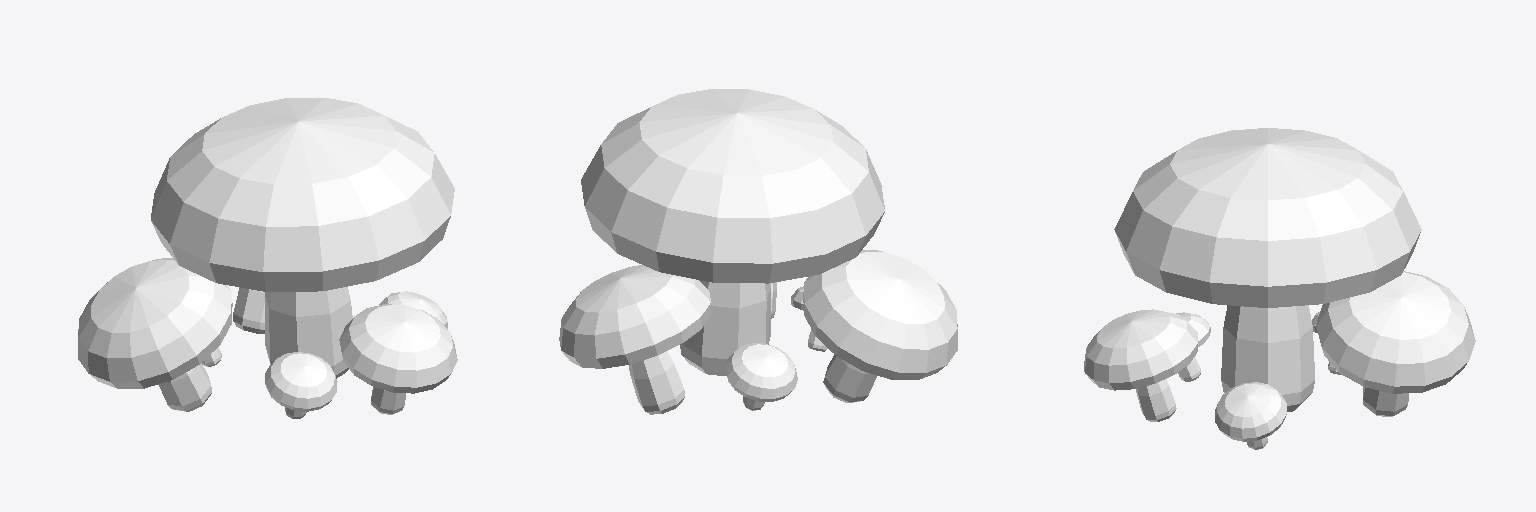
File: Mushroom_01.obj
The picture shows the model from 3 angles: view 1: azimuth 30°, elevation 25°; view 2: azimuth 150°, elevation 25°; view 3: azimuth 270°, elevation 25°; orthographic projection.
Parts seen in each view (by area): view 1: Mushroom_01_Circle.045; view 2: Mushroom_01_Circle.045; view 3: Mushroom_01_Circle.045.
Part boxes in pixels (left/top/right/bottom): Mushroom_01_Circle.045: left=78, top=98, right=457, bottom=418; Mushroom_01_Circle.045: left=559, top=89, right=957, bottom=414; Mushroom_01_Circle.045: left=1084, top=128, right=1475, bottom=449.
Size of the model in its own units: 0.6338 by 0.4517 by 0.6179.